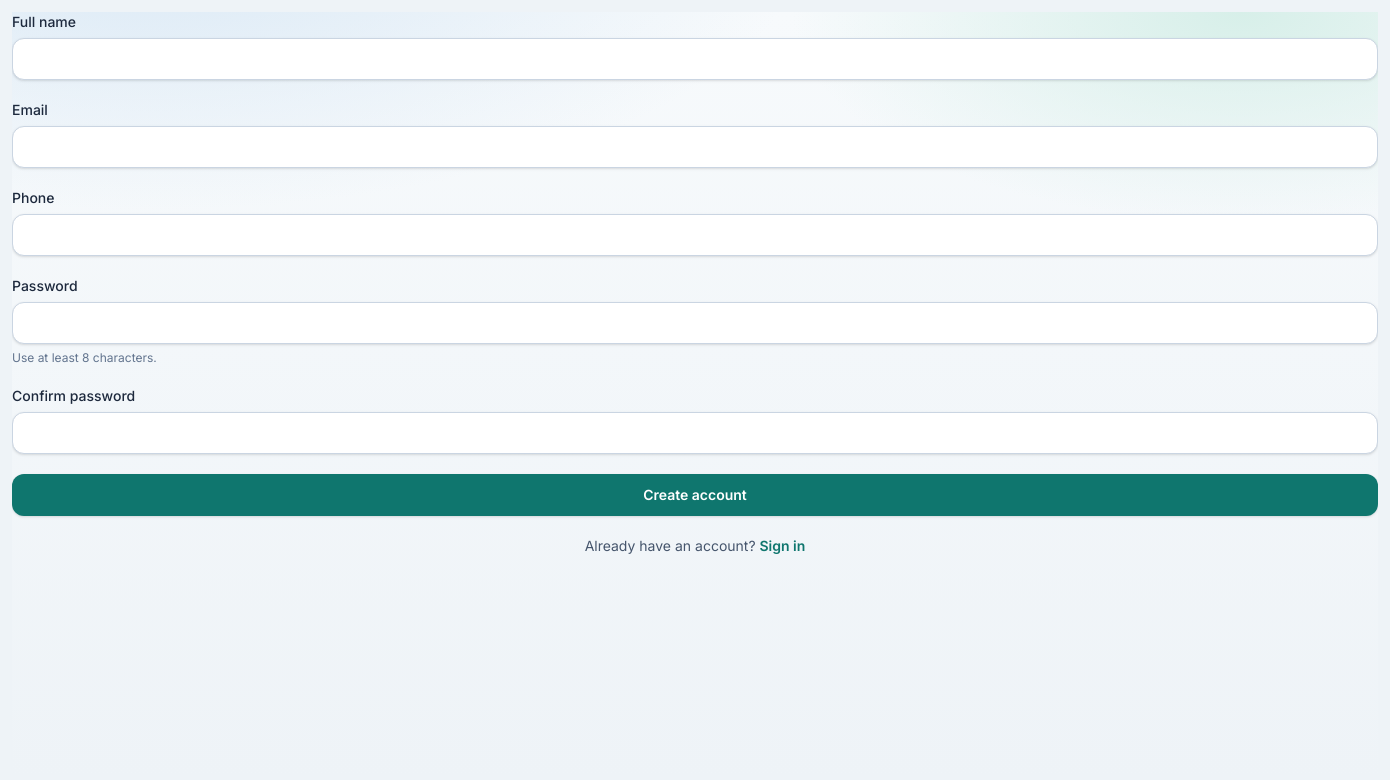
it: SignupForm › blocks short password locally and preserves the form
The width and height of the screenshot is (1390, 780).
Type "Test Customer" into the field labelled "Full name" at (695, 59), box [12,38,1378,80]
Type "customer@example.org" into the field labelled "Email" at (695, 147), box [12,126,1378,168]
Type "+973 3000 0000" into the field labelled "Phone" at (695, 235), box [12,214,1378,256]
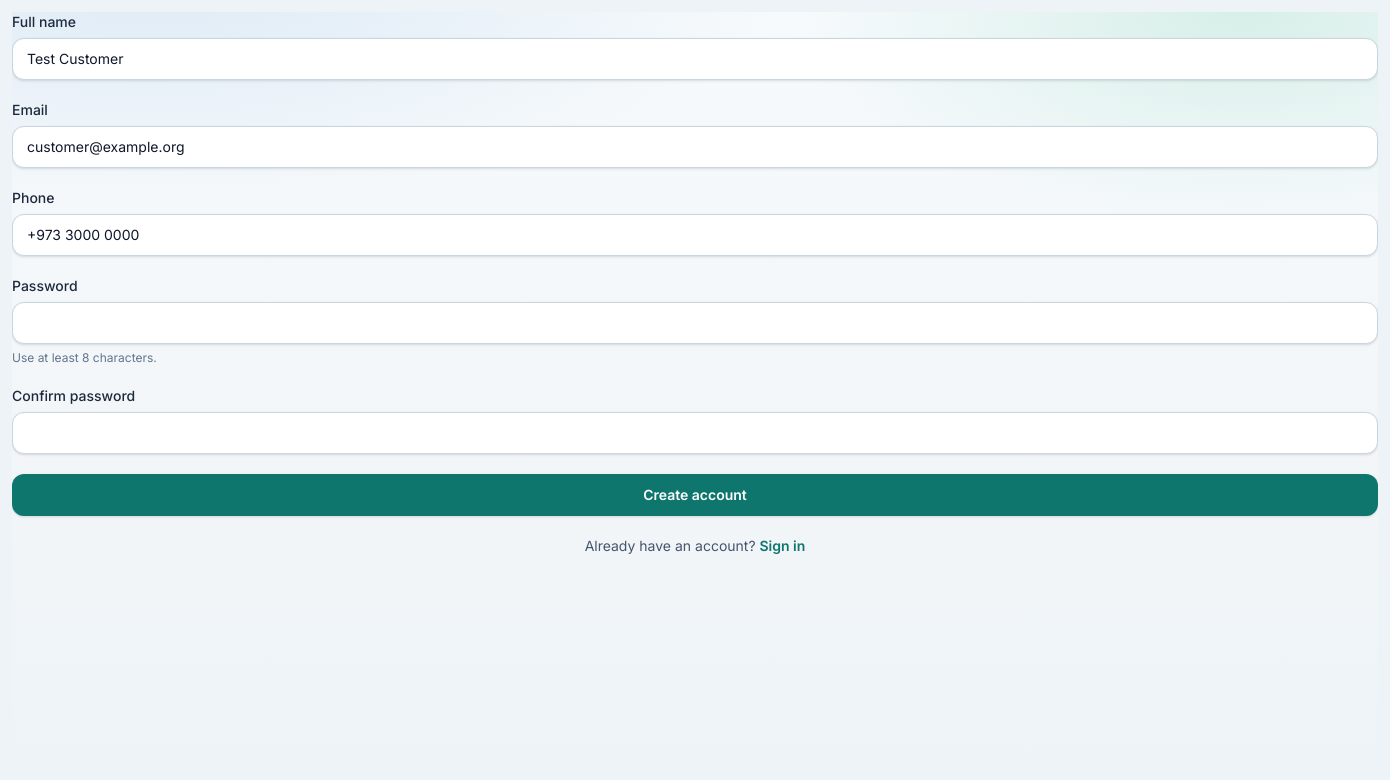
Type "password1" into the password field labelled "Password" at (695, 323), box [12,302,1378,344]
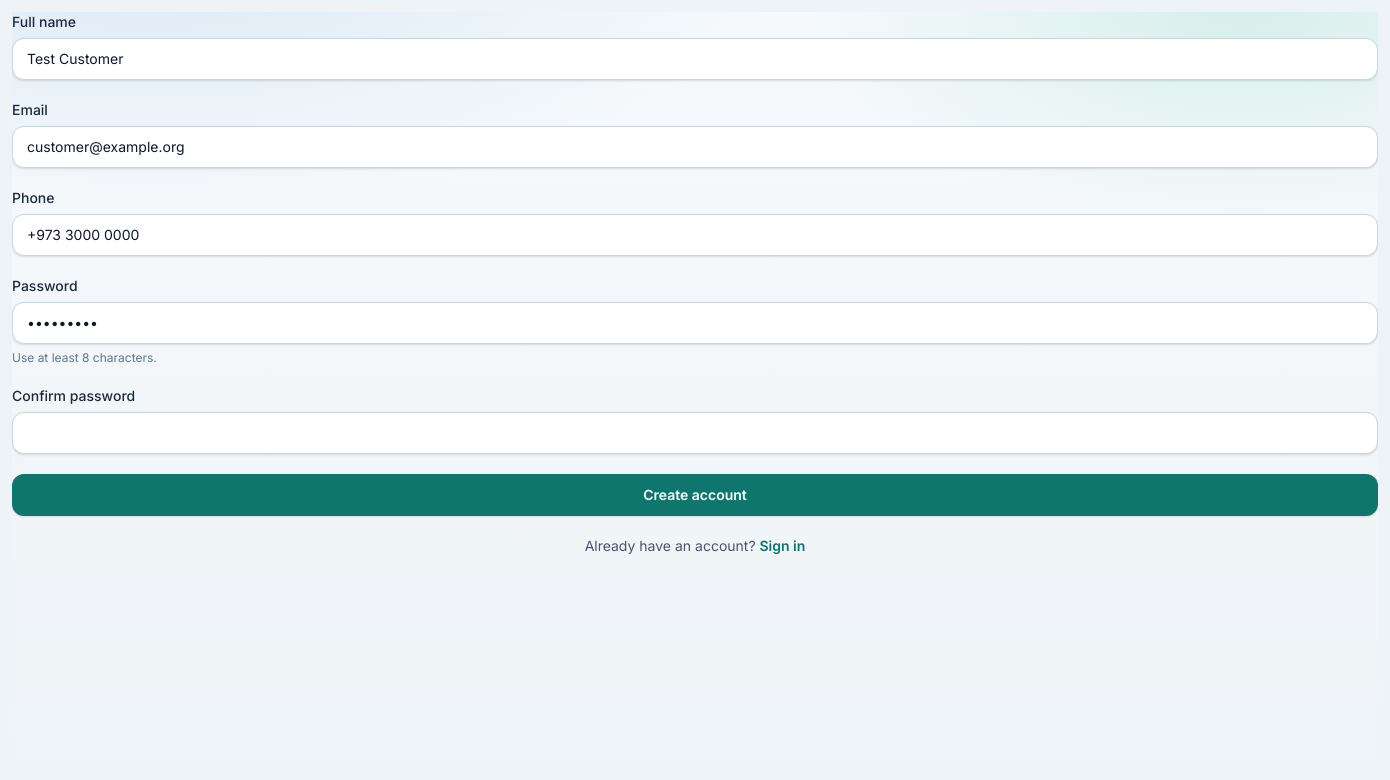
Type "password1" into the password field labelled "Confirm password" at (695, 433), box [12,412,1378,454]
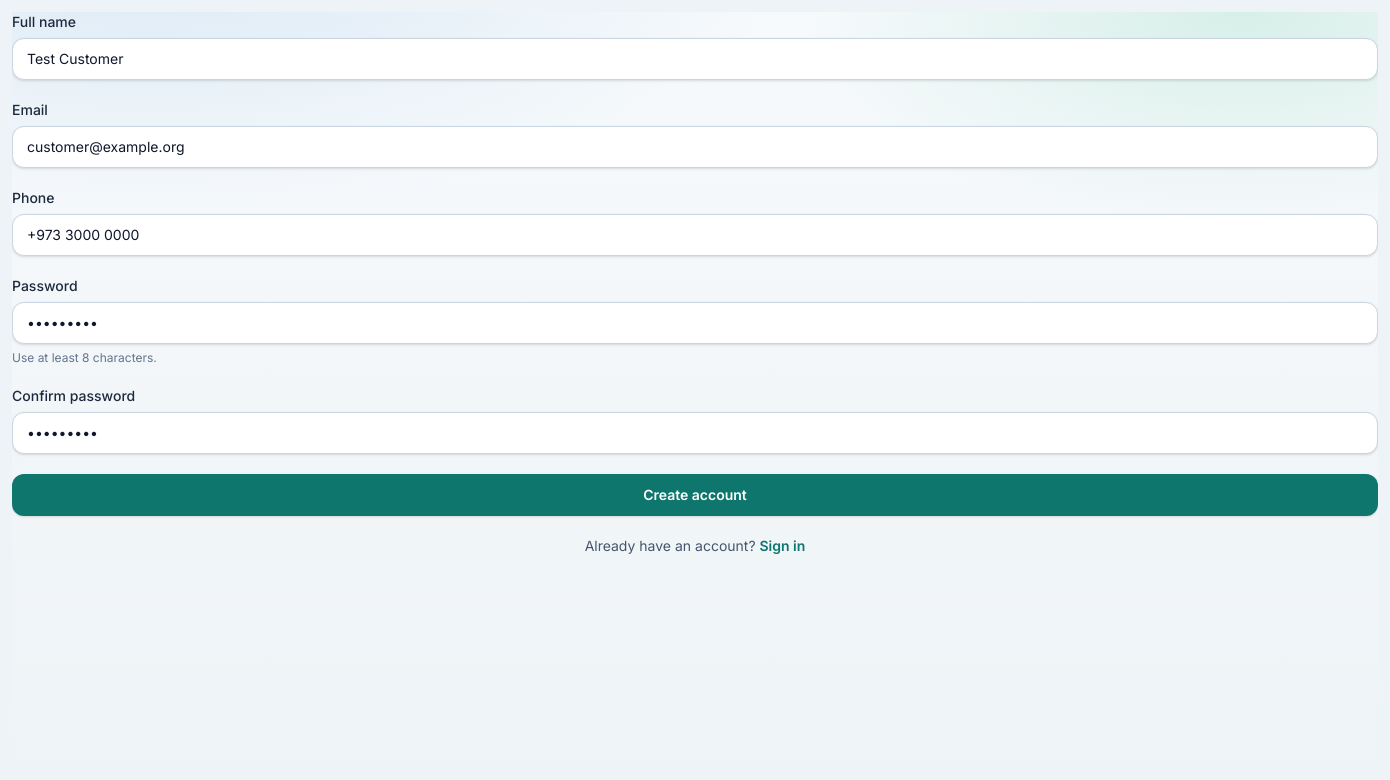
Type "short" into the password field labelled "Password" at (695, 323), box [12,302,1378,344]
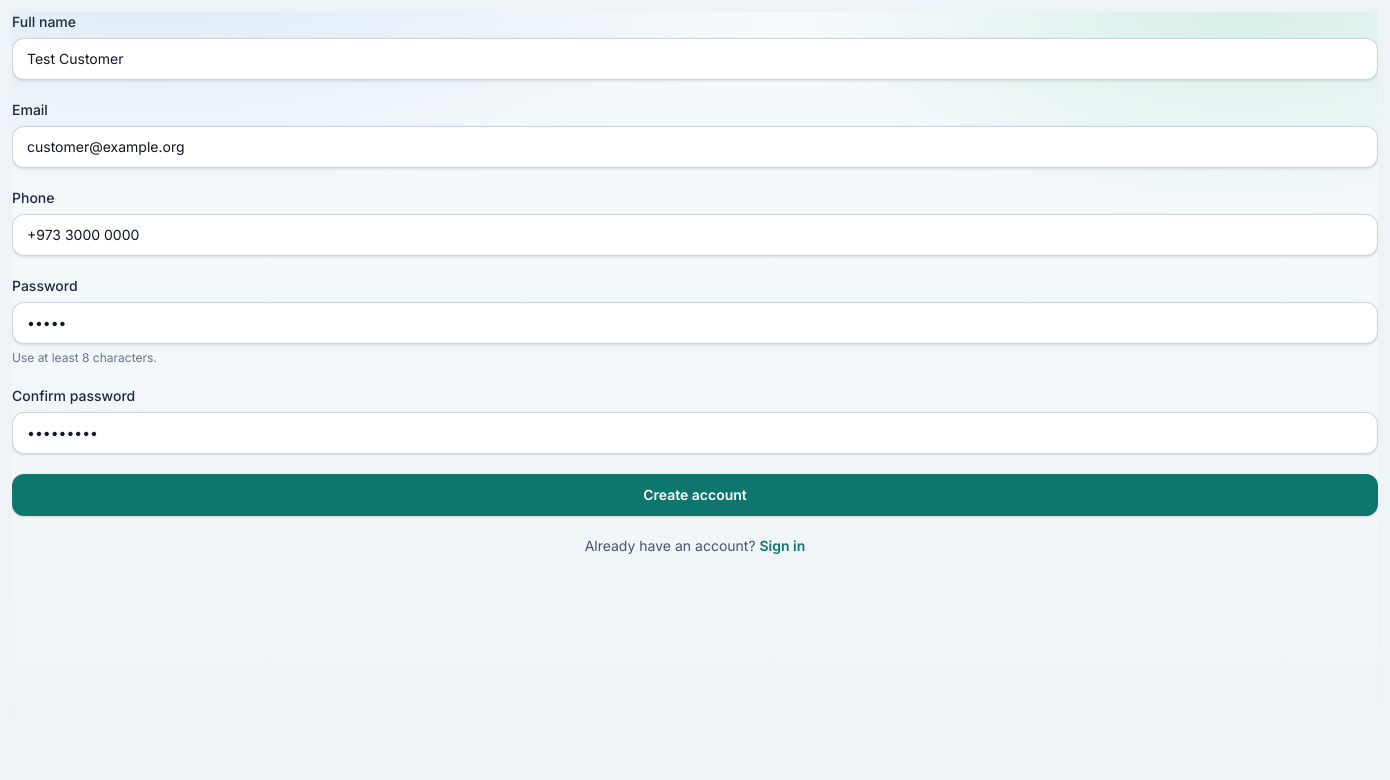
Type "short" into the password field labelled "Confirm password" at (695, 433), box [12,412,1378,454]
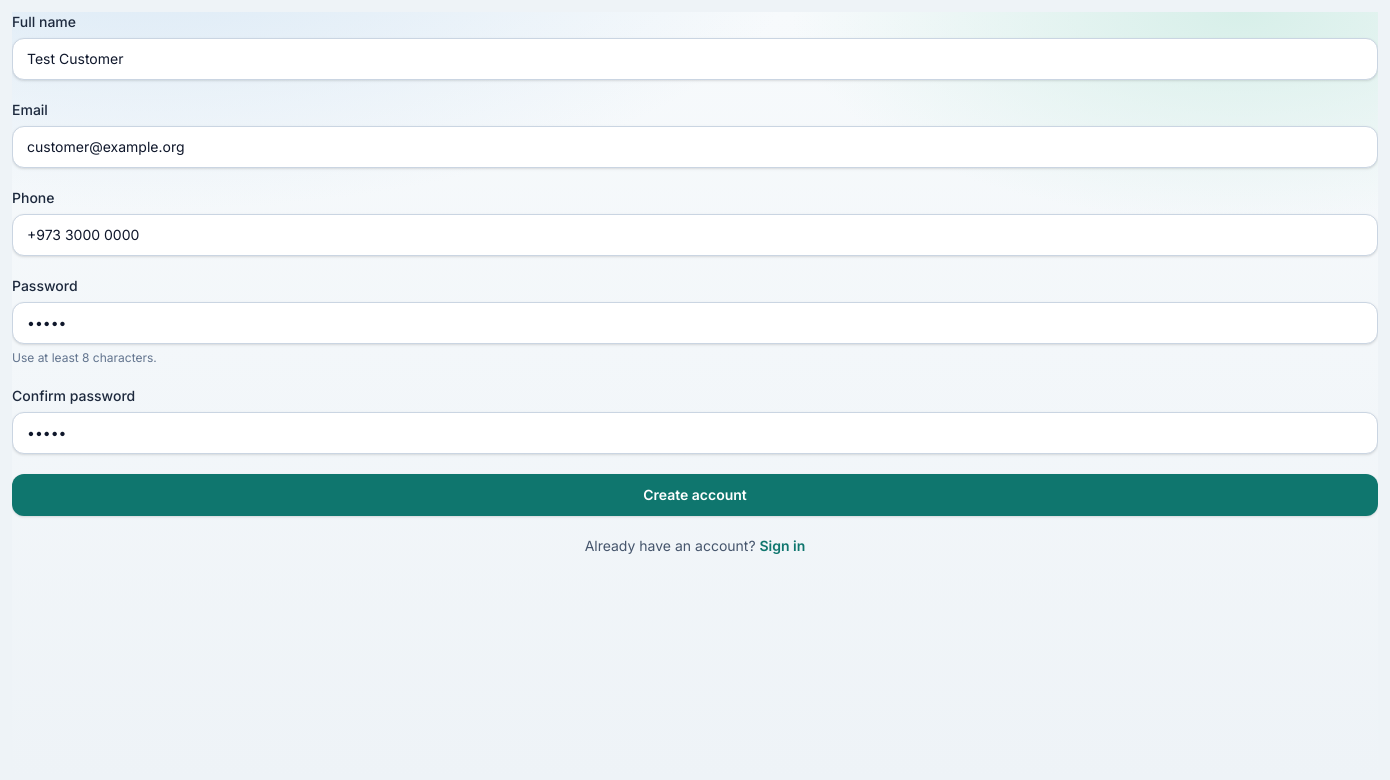
Click the button "Create account" at (695, 495), box [12,474,1378,516]
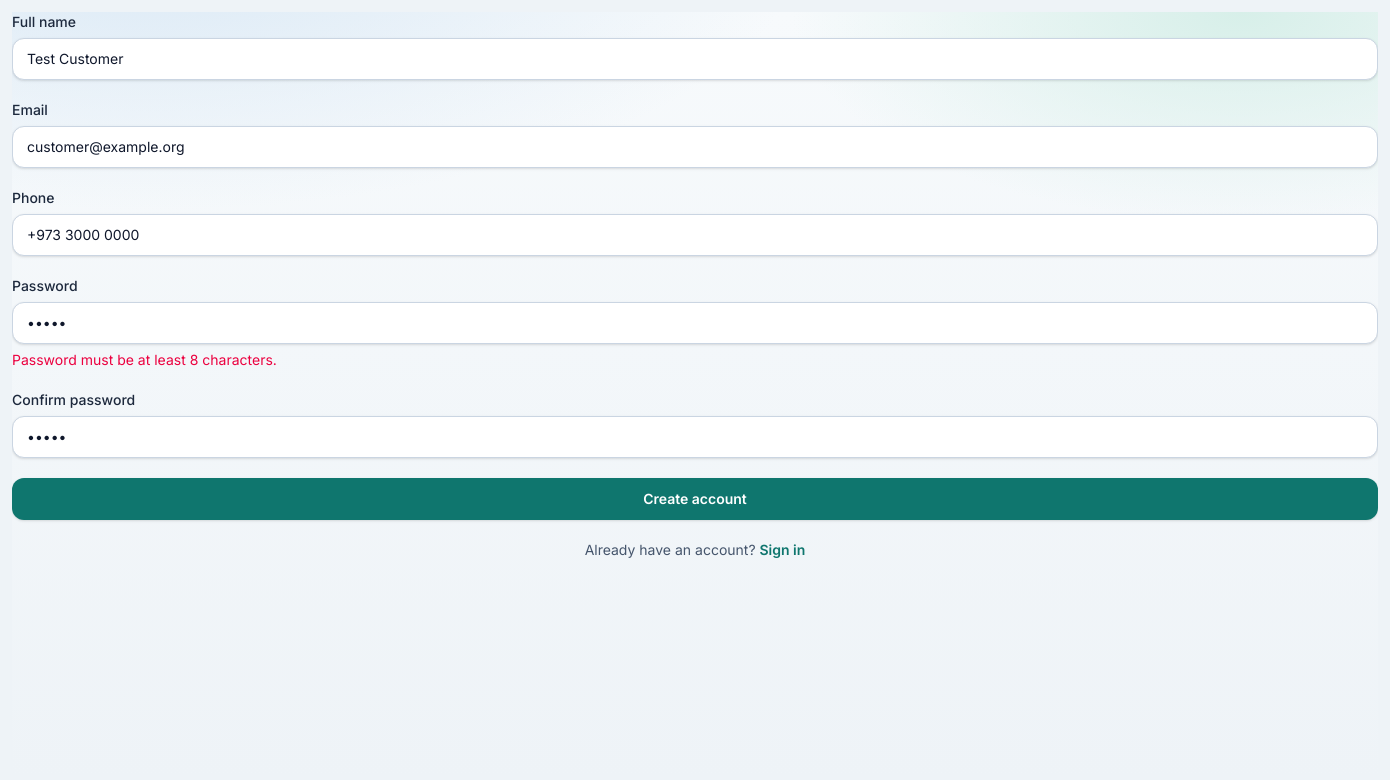
Now the text "Password must be at least 8 characters." is shown, box [12,351,277,368]
